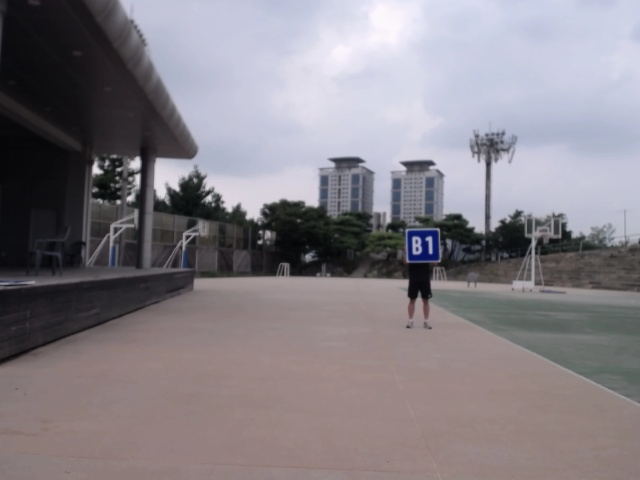delivery_b1: (406, 229, 441, 262)
